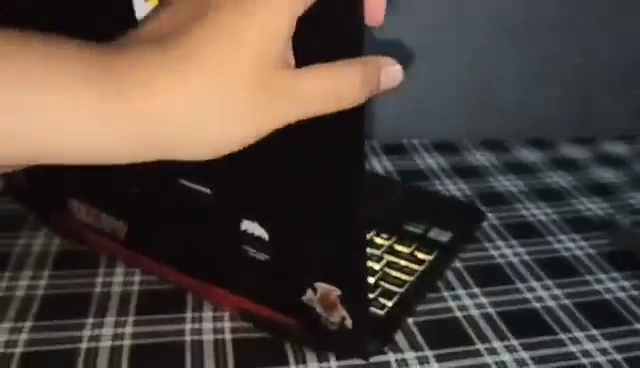laptop: (45, 1, 481, 358)
